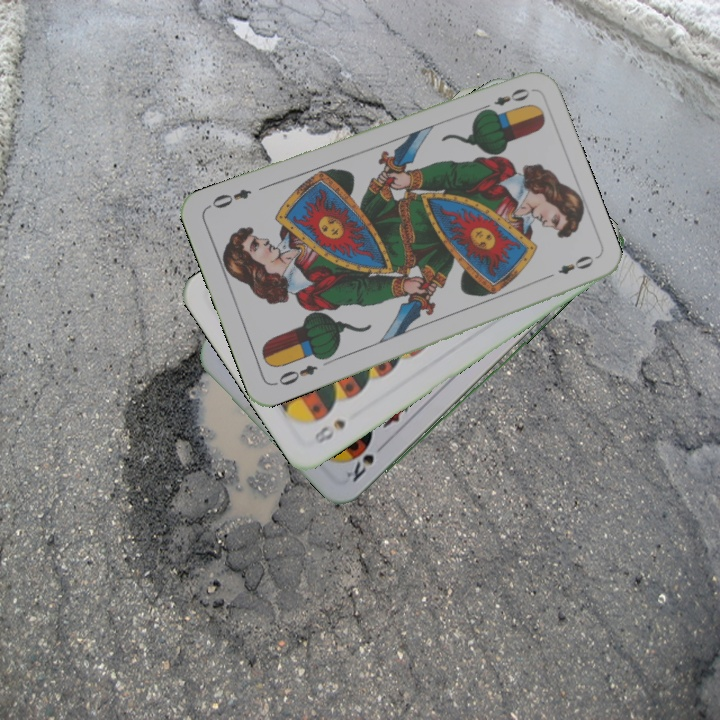EO: (476, 84, 533, 115), (270, 361, 320, 389)
S8: (310, 415, 349, 447)
SK: (342, 450, 377, 485)
